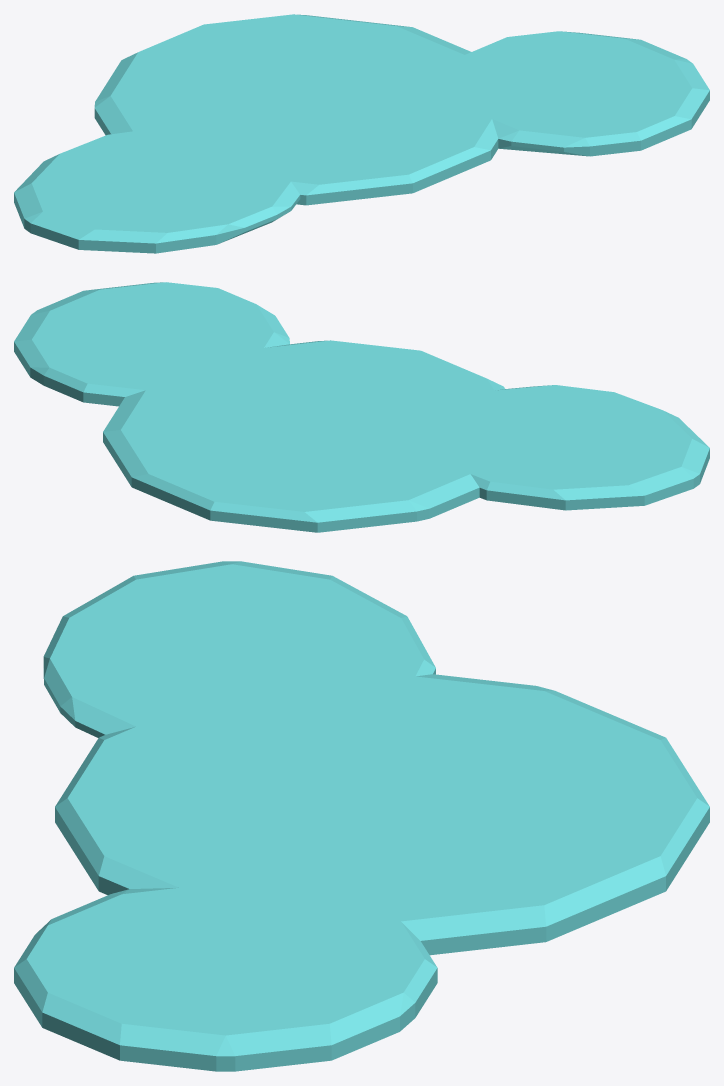
File: cloud.fbx
The picture shows the model from 3 angles, top to bottom: view 1: azimuth 30°, elevation 25°; view 2: azimuth 150°, elevation 25°; view 3: azimuth 270°, elevation 25°; orthographic projection. The views are drawn at different scales.
Visible parts, largest first — view 1: Cube; view 2: Cube; view 3: Cube.
Boxes of the visible parts, x1,y1,x2,y2 form: Cube: (14, 14, 709, 253); Cube: (14, 282, 709, 532); Cube: (14, 561, 709, 1071).
Size of the model in its own units: 588 by 13.39 by 350.
